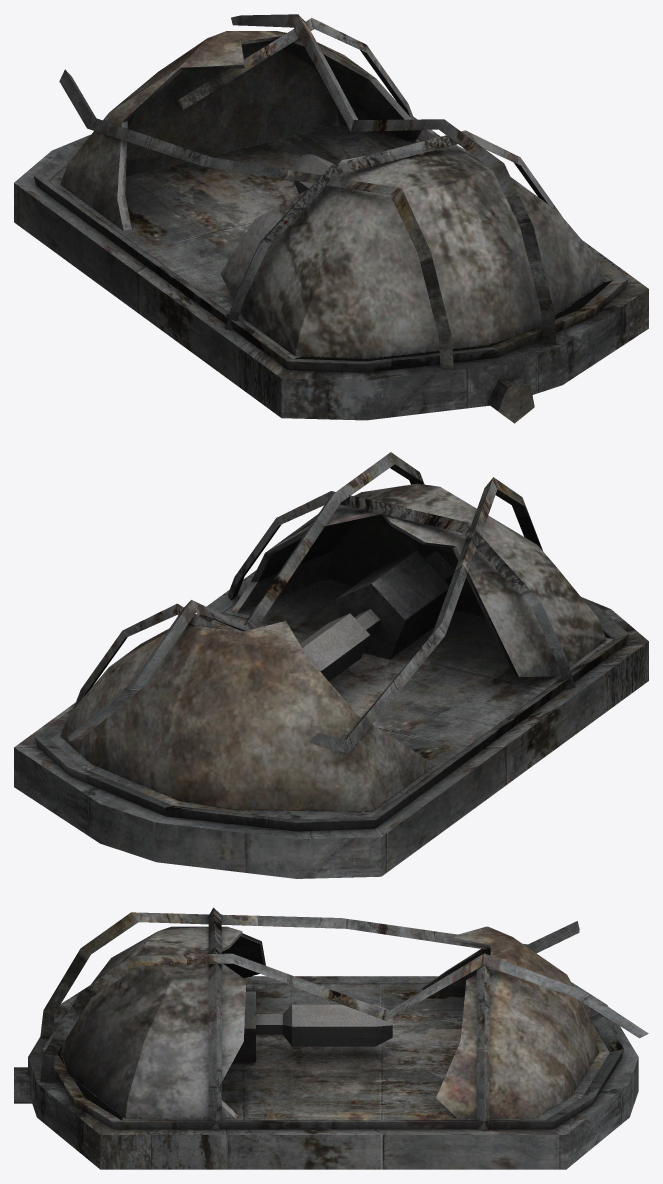
File: Basement_Lamp_broken.fbx
3 views of the same model, one above another, from view 1: azimuth 30°, elevation 25°; view 2: azimuth 150°, elevation 25°; view 3: azimuth 270°, elevation 25° (orthographic). The views are drawn at different scales.
Visible parts, largest first — view 1: Cube_018; view 2: Cube_018; view 3: Cube_018.
Part boxes in pixels (x1,y1,x2,y2): Cube_018: [14, 14, 648, 423]; Cube_018: [14, 452, 648, 878]; Cube_018: [14, 907, 648, 1169].
Size of the model in its own units: 1 by 0.5182 by 1.72.
